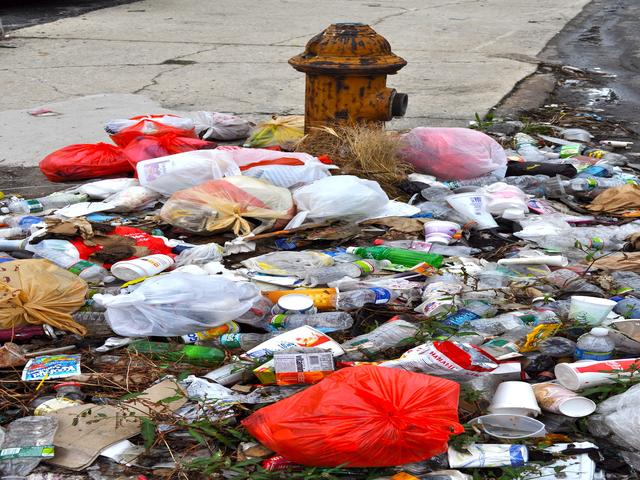garbage: (63, 188, 619, 470)
